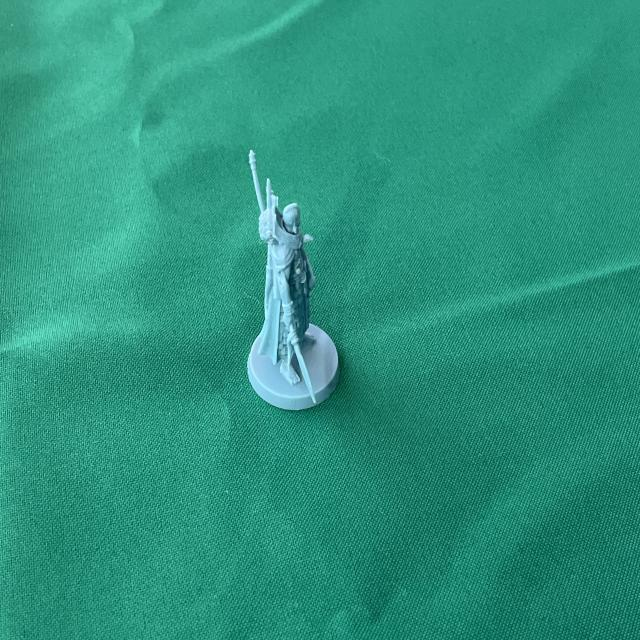isis_follower: (245, 146, 354, 408)
